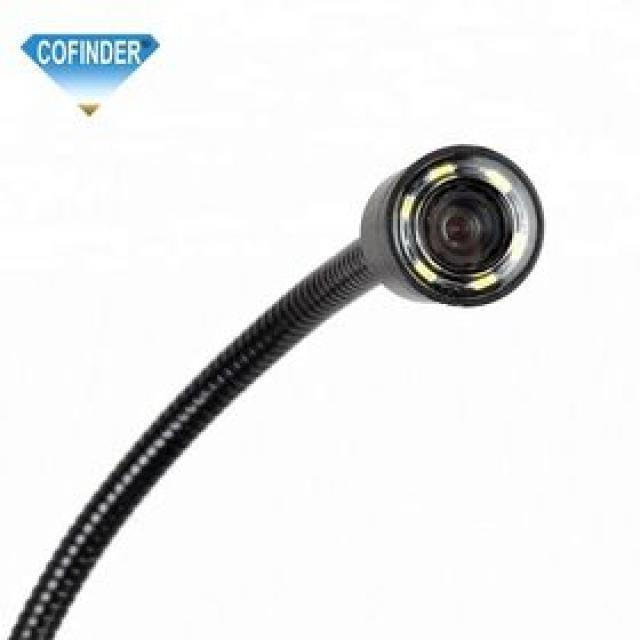hidden camera: (424, 178, 510, 276)
